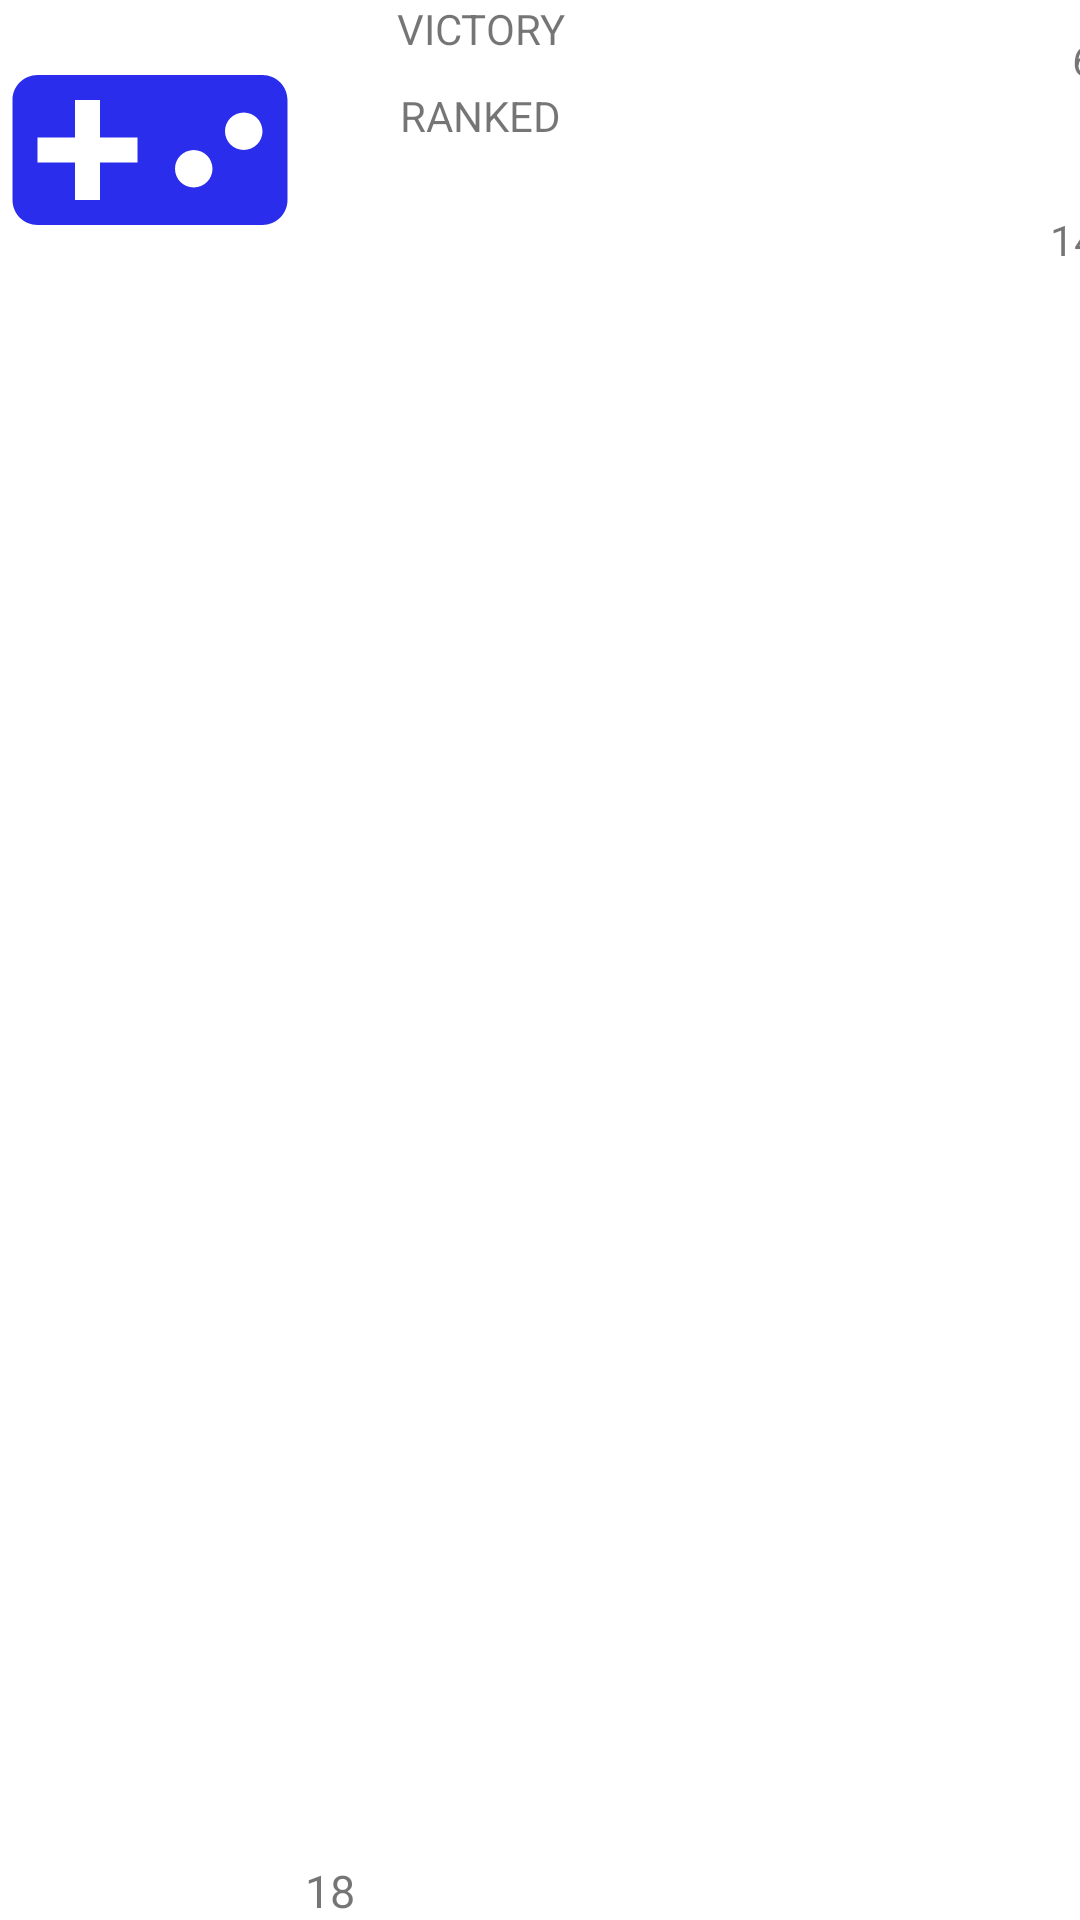

Screen size 1080w x 1920h. Icon name, then its center in pixels as [x,y]:
videogame: [150,150]
